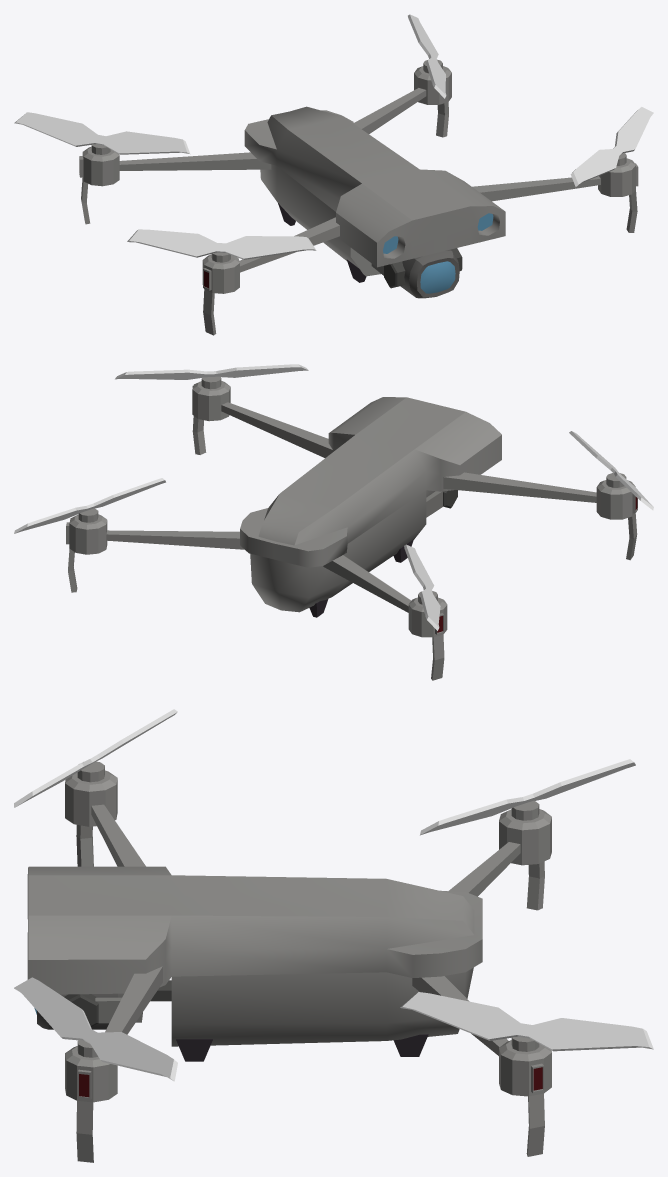
File: Drone_01.fbx
3 views of the same model, one above another, from view 1: azimuth 30°, elevation 25°; view 2: azimuth 150°, elevation 25°; view 3: azimuth 270°, elevation 25° (orthographic). The views are drawn at different scales.
Parts seen in each view (by area): view 1: Drone_Body, DronePropeller_Front_Left, DronePropeller_Back_Left, DronePropeller_Front_Right, DronePropeller_Back_Right; view 2: Drone_Body, DronePropeller_Front_Right, DronePropeller_Back_Right, DronePropeller_Back_Left, DronePropeller_Front_Left; view 3: Drone_Body, DronePropeller_Back_Right, DronePropeller_Front_Right, DronePropeller_Back_Left, DronePropeller_Front_Left.
Part boxes in pixels (x1=…): Drone_Body: x1=79, y1=59, x2=638, y2=335; DronePropeller_Front_Left: x1=127, y1=229, x2=316, y2=259; DronePropeller_Back_Left: x1=14, y1=112, x2=189, y2=154; DronePropeller_Front_Right: x1=571, y1=107, x2=653, y2=186; DronePropeller_Back_Right: x1=408, y1=14, x2=446, y2=98; Drone_Body: x1=66, y1=376, x2=637, y2=680; DronePropeller_Front_Right: x1=115, y1=364, x2=308, y2=379; DronePropeller_Back_Right: x1=14, y1=478, x2=165, y2=533; DronePropeller_Back_Left: x1=404, y1=544, x2=440, y2=630; DronePropeller_Front_Left: x1=569, y1=431, x2=653, y2=510; Drone_Body: x1=27, y1=761, x2=551, y2=1162; DronePropeller_Back_Right: x1=400, y1=992, x2=653, y2=1051; DronePropeller_Front_Right: x1=14, y1=977, x2=177, y2=1081; DronePropeller_Back_Left: x1=420, y1=759, x2=635, y2=835; DronePropeller_Front_Left: x1=14, y1=709, x2=177, y2=807.
Bounding box in the file's own units: 2.23 × 0.4499 × 1.64.
